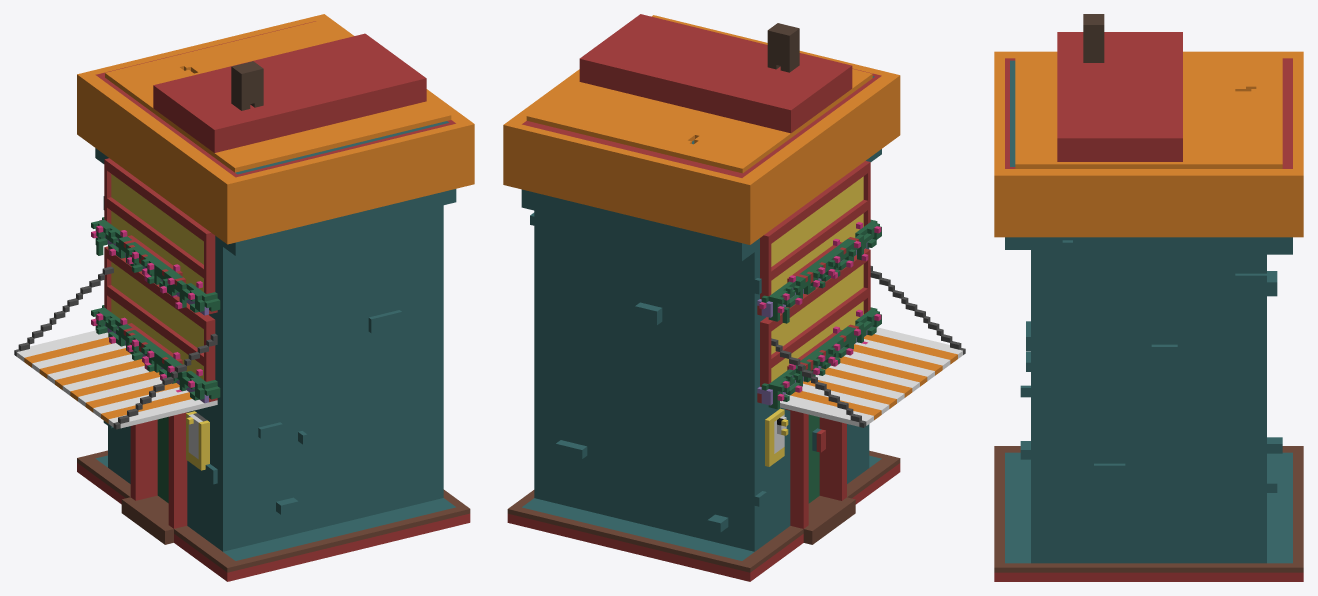
The model's file is id-flowershop.obj.
3 renders of one model, left to right at view 1: azimuth 30°, elevation 25°; view 2: azimuth 150°, elevation 25°; view 3: azimuth 270°, elevation 25°, orthographic. The views are drawn at different scales.
Bounding box in the file's own units: 76 × 100 × 59.
1 material, 1 textured.
